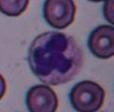N: (27, 30, 84, 84)
